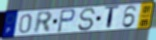0: (17, 13, 34, 35)
6: (121, 5, 137, 29)
P: (56, 8, 76, 34)
R: (33, 11, 54, 35)
S: (77, 7, 97, 32)
T: (104, 5, 121, 31)
